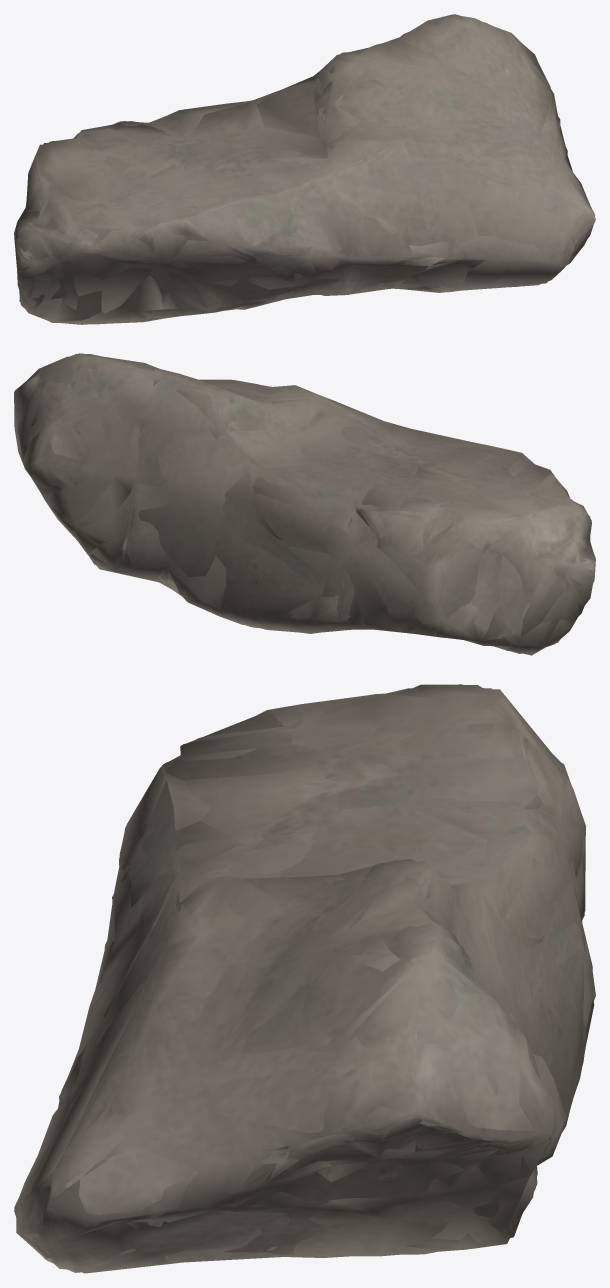
Rendered from rock_moon_a.glb.
3 renders of one model, top to bottom at view 1: azimuth 30°, elevation 25°; view 2: azimuth 150°, elevation 25°; view 3: azimuth 270°, elevation 25°, orthographic. The views are drawn at different scales.
Visible parts, largest first — view 1: rock_moon_a; view 2: rock_moon_a; view 3: rock_moon_a.
Part boxes in pixels (bbox=[...]): rock_moon_a: bbox=[14, 14, 595, 324]; rock_moon_a: bbox=[14, 353, 595, 655]; rock_moon_a: bbox=[14, 684, 595, 1273].
Bounding box in the file's own units: 0.2126 × 0.0756 × 0.112.
1 material, 1 textured.
